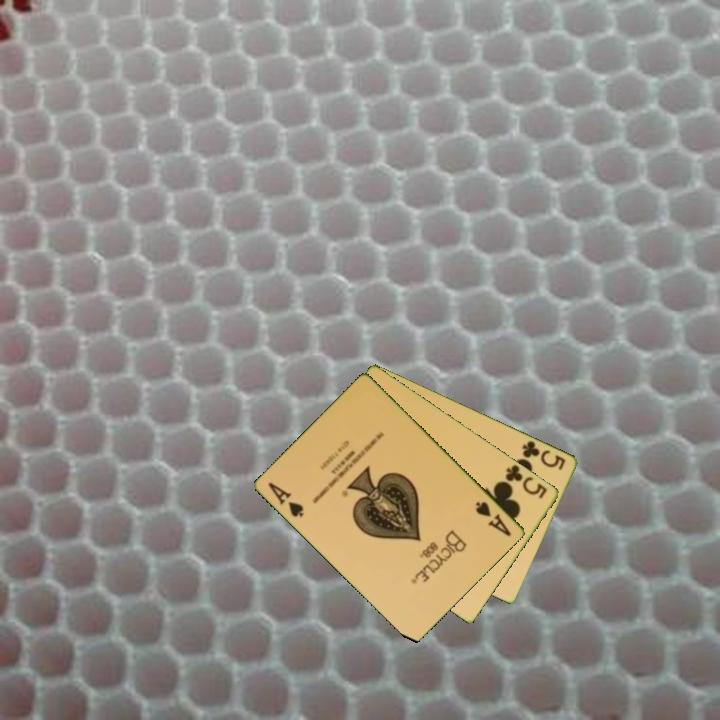5c: (501, 461, 550, 502), (519, 437, 569, 473)
As: (472, 498, 515, 539), (265, 479, 307, 520)
